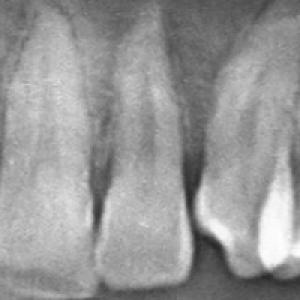tooth: (190, 16, 300, 284), (92, 23, 195, 292), (0, 6, 96, 294)
